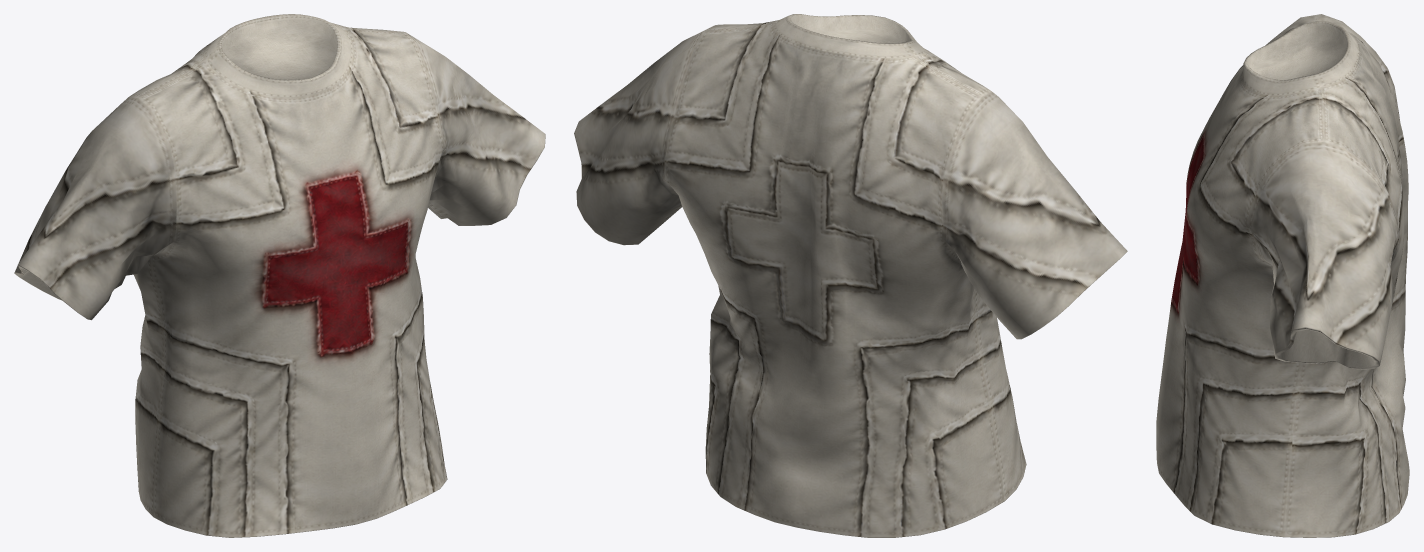
The picture shows the model from 3 angles, left to right: view 1: azimuth 30°, elevation 25°; view 2: azimuth 150°, elevation 25°; view 3: azimuth 270°, elevation 25°; orthographic projection. The views are drawn at different scales.
Parts seen in each view (by area): view 1: hash_D067EE79.model; view 2: hash_D067EE79.model; view 3: hash_D067EE79.model.
Part boxes in pixels (<box>): hash_D067EE79.model: <box>14,14,545,537</box>; hash_D067EE79.model: <box>574,14,1127,537</box>; hash_D067EE79.model: <box>1156,14,1409,537</box>.
Bounding box in the file's own units: 0.7539 × 0.6222 × 0.3235.
